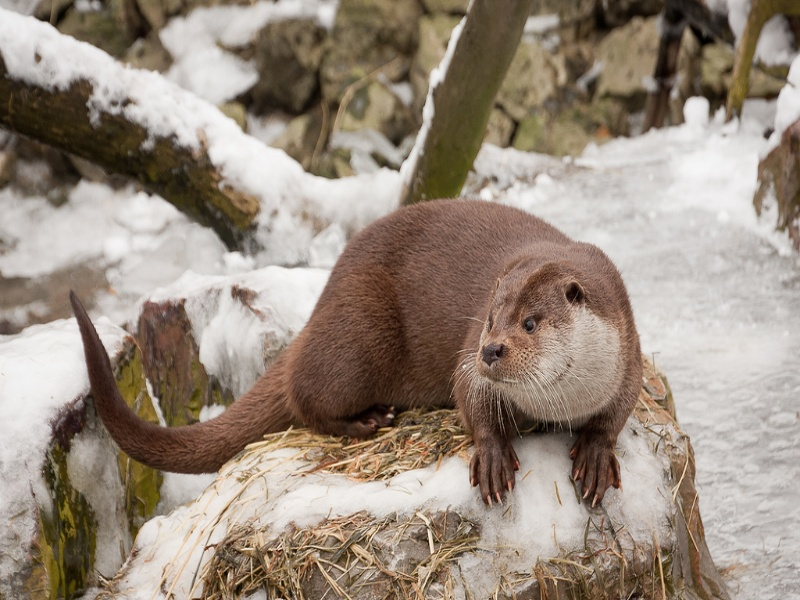minkish: (61, 194, 645, 509)
